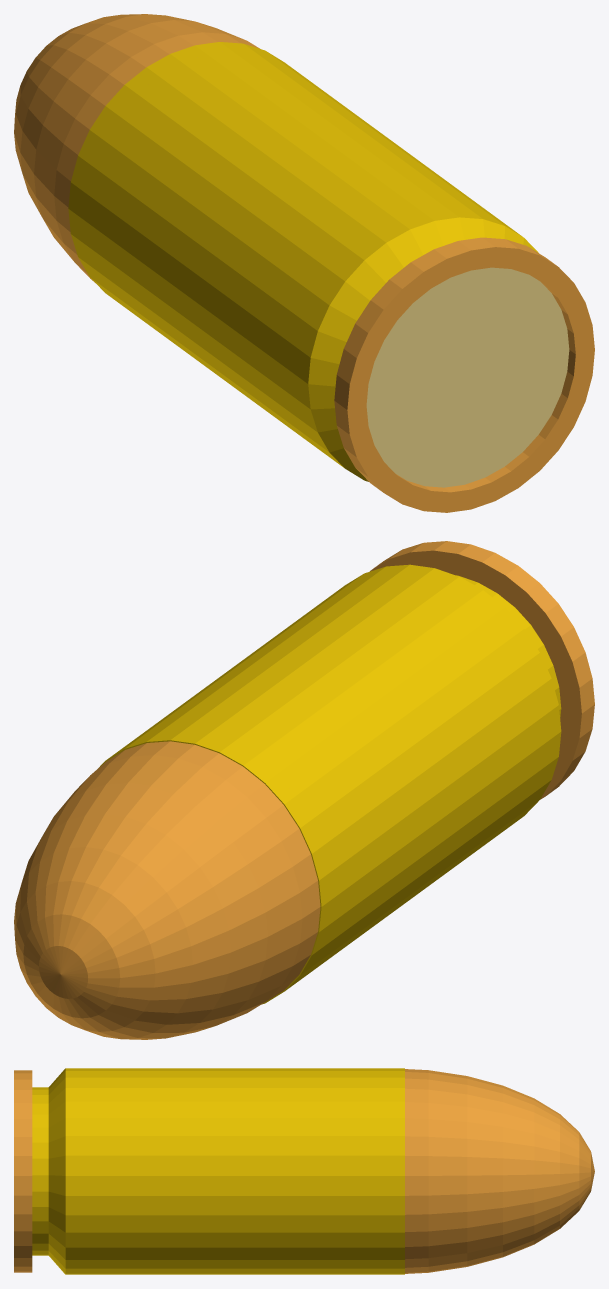
File: bullet.gltf
The picture shows the model from 3 angles, top to bottom: view 1: azimuth 30°, elevation 25°; view 2: azimuth 150°, elevation 25°; view 3: azimuth 270°, elevation 25°; orthographic projection. The views are drawn at different scales.
Visible parts, largest first — view 1: Sphere; view 2: Sphere; view 3: Sphere.
Part boxes in pixels (box(x1,y1,x2,y2)): Sphere: box(14, 14, 594, 512); Sphere: box(14, 541, 594, 1039); Sphere: box(14, 1068, 594, 1274).
Size of the model in its own units: 0.2 by 0.2 by 0.5618.
